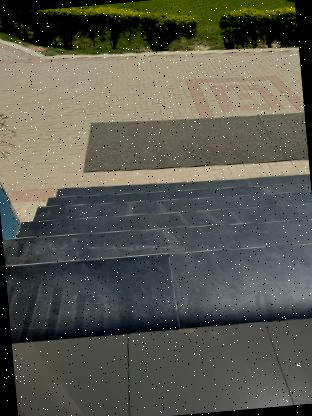stair: (0, 156, 312, 337)
